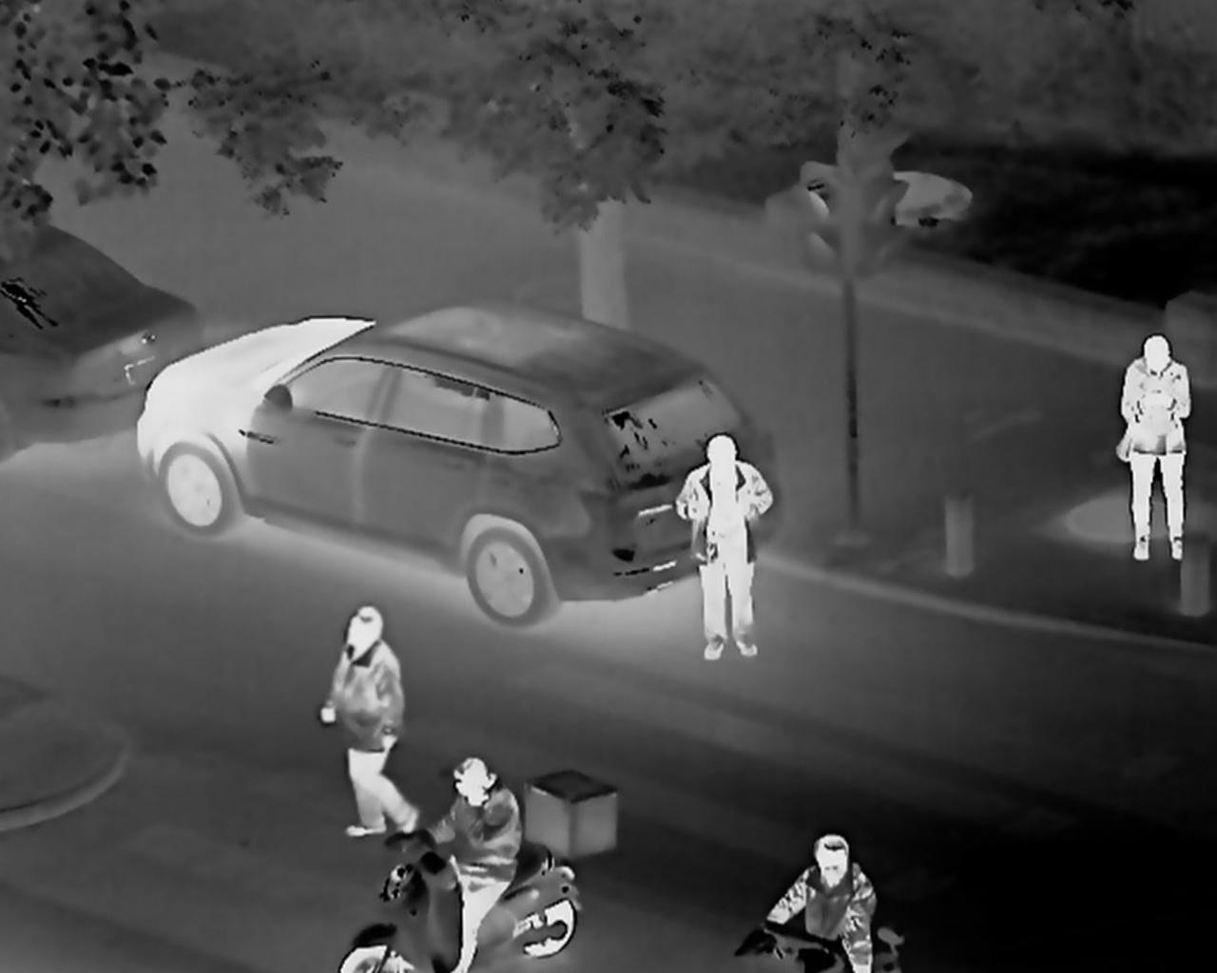person: (684, 416, 773, 685), (328, 592, 417, 794), (1120, 321, 1187, 571), (441, 760, 518, 943), (779, 830, 875, 973)
